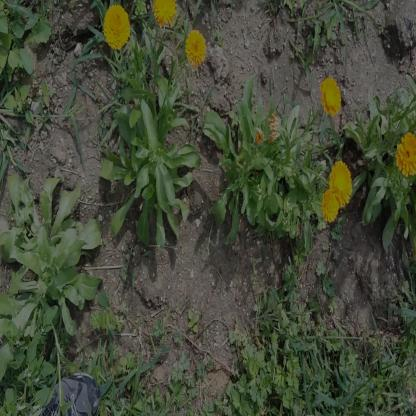marigold: (103, 4, 129, 44), (330, 159, 351, 202), (396, 131, 415, 173), (322, 75, 342, 113), (184, 31, 206, 63), (153, 0, 176, 28), (324, 187, 341, 221)
